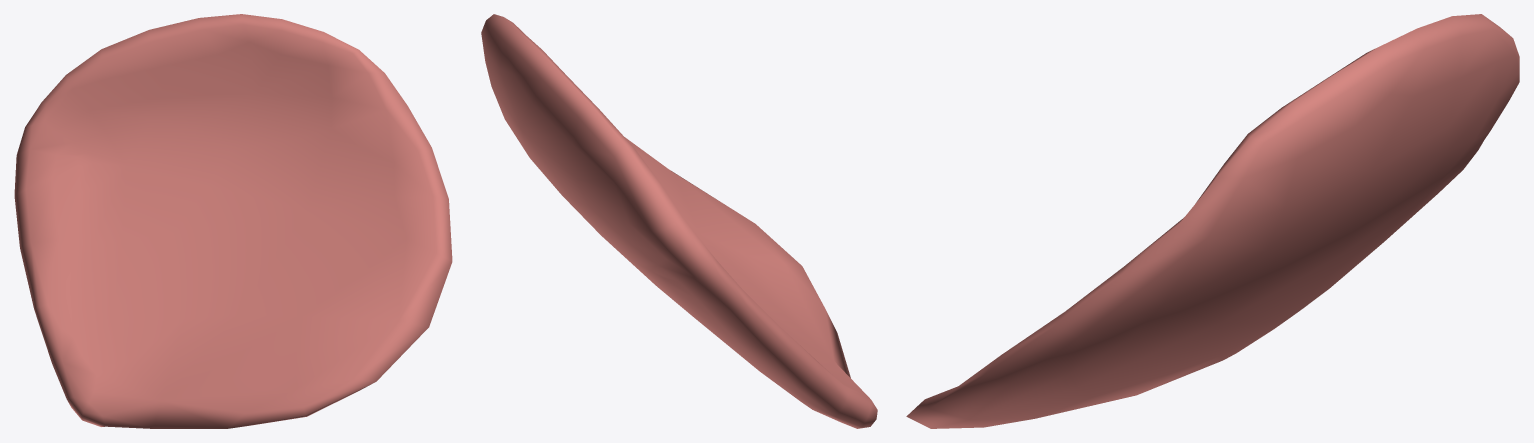
The picture shows the model from 3 angles, left to right: view 1: azimuth 30°, elevation 25°; view 2: azimuth 150°, elevation 25°; view 3: azimuth 270°, elevation 25°; orthographic projection. The views are drawn at different scales.
Parts seen in each view (by area): view 1: ZA_5073b151d78f0c0c; view 2: ZA_5073b151d78f0c0c; view 3: ZA_5073b151d78f0c0c.
Boxes of the visible parts, <box> form: ZA_5073b151d78f0c0c: <box>14,14,452,428</box>; ZA_5073b151d78f0c0c: <box>481,14,877,428</box>; ZA_5073b151d78f0c0c: <box>906,14,1519,428</box>.
Bounding box in the file's own units: 0.00623 × 0.00561 × 0.00644.
